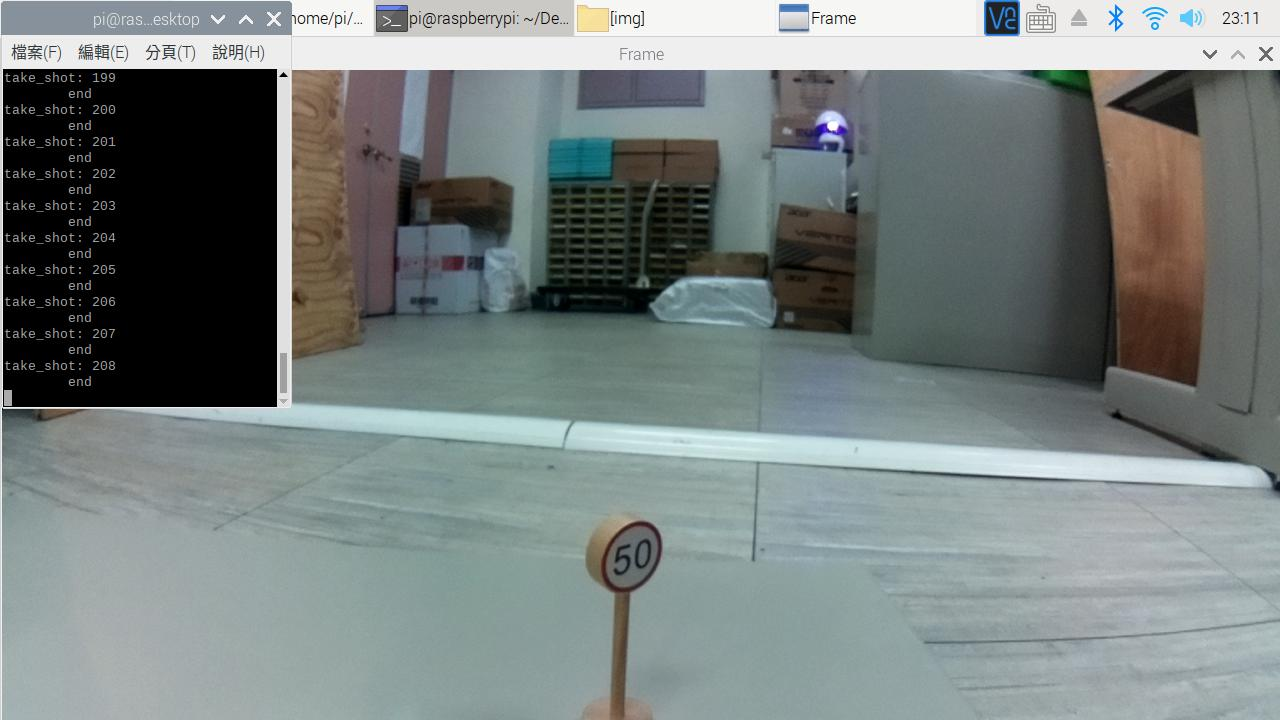Speed50: (565, 508, 687, 595)
